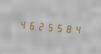eight: (62, 21, 70, 35)
five: (44, 19, 52, 34), (53, 20, 61, 34)
four: (71, 21, 79, 36), (17, 17, 25, 31)
six: (26, 17, 34, 32)
two: (35, 18, 43, 33)
